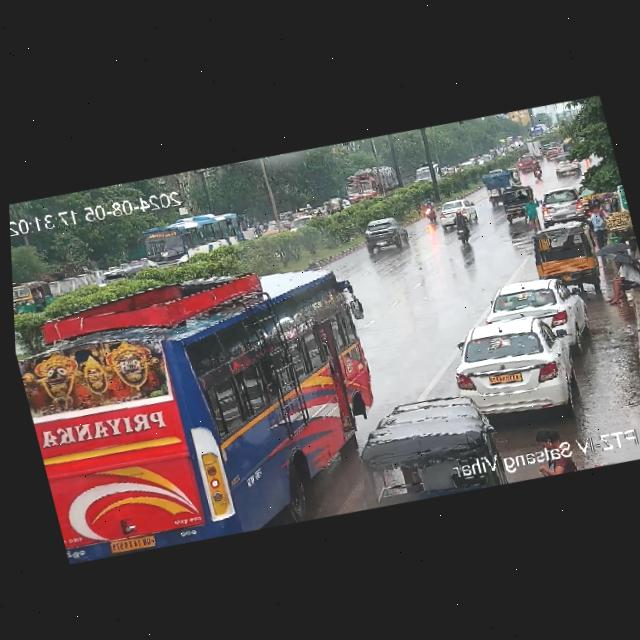bus: (18, 269, 373, 560), (143, 213, 243, 268), (414, 163, 432, 182), (528, 124, 547, 137), (432, 162, 442, 180)
car: (456, 318, 577, 413), (361, 396, 493, 470), (491, 278, 589, 351), (532, 221, 600, 290), (364, 217, 409, 253), (13, 280, 54, 313), (501, 184, 534, 223), (440, 198, 477, 229), (554, 153, 580, 177), (290, 214, 314, 230), (517, 153, 536, 170)
motorcycle: (453, 211, 470, 243), (425, 199, 436, 222)
person: (607, 261, 640, 303), (591, 204, 606, 248), (524, 198, 540, 232)
truck: (346, 166, 383, 203), (482, 167, 521, 190), (378, 165, 399, 192), (527, 140, 543, 158)
